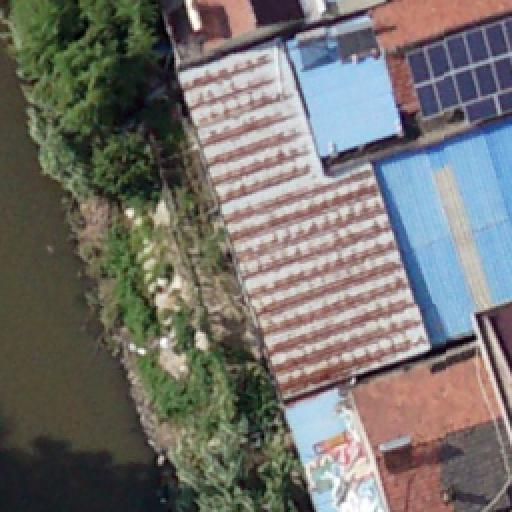solar-panel: (395, 19, 512, 128)
